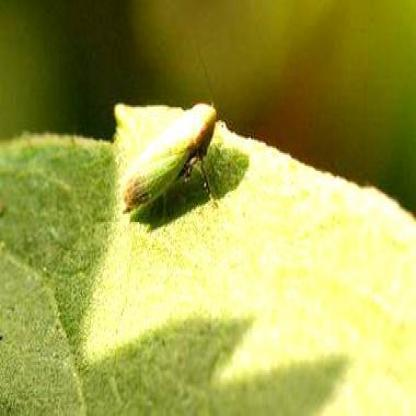green-leafhopper: (127, 100, 226, 218)
